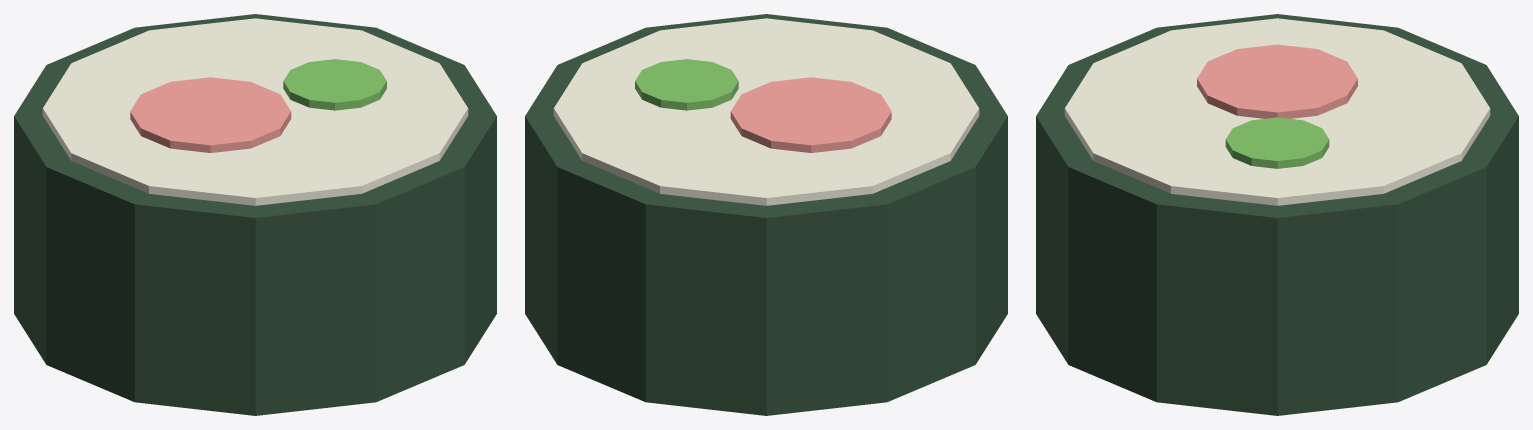
The model's file is Food3.fbx.
The picture shows the model from 3 angles, left to right: view 1: azimuth 30°, elevation 25°; view 2: azimuth 150°, elevation 25°; view 3: azimuth 270°, elevation 25°; orthographic projection.
Parts seen in each view (by area): view 1: Food3; view 2: Food3; view 3: Food3.
Part boxes in pixels (x1,y1,x2,y2): Food3: [14, 14, 496, 415]; Food3: [525, 14, 1007, 415]; Food3: [1036, 14, 1518, 415].
Size of the model in its own units: 8.4 by 4.3 by 8.4.
